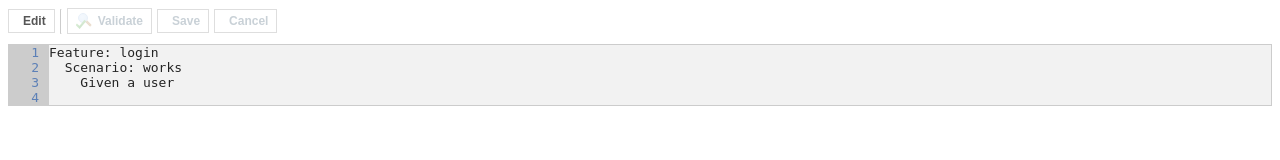
Test: Cucumber Test panel › validates before saving when the form asks it to, and saves nothing when invalid
This screenshot has width=1280, height=160.
Click the button "Edit" at (31, 21), box [8,9,55,33]
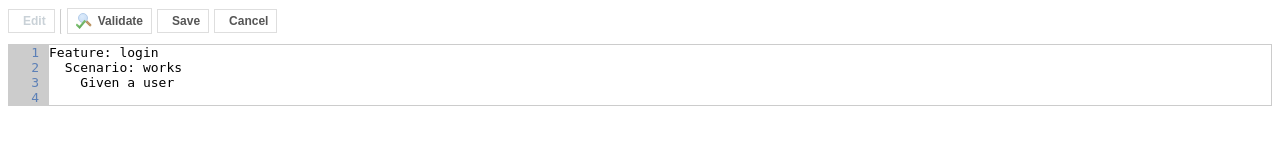
Click the button "Save" at (183, 21), box [157,9,209,33]
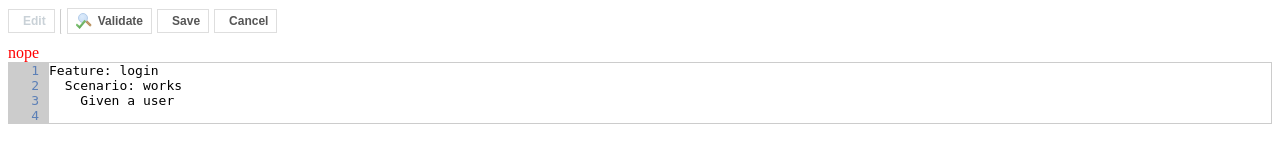
Now the element with id "feature-validation-result" reads "nope", box [8,44,39,61]
